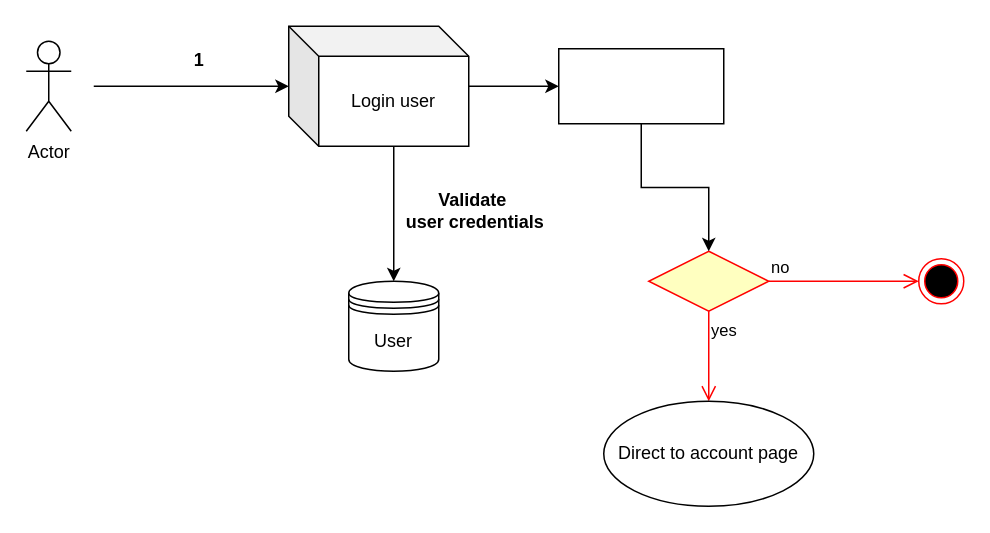
The diagram is 990 pixels wide and 533 high, and some of its shapes have lost their labels. The centre of each missing label's shape, as x and y in pixels:
LoginResponse: [640,85]
Validate: [708,280]
